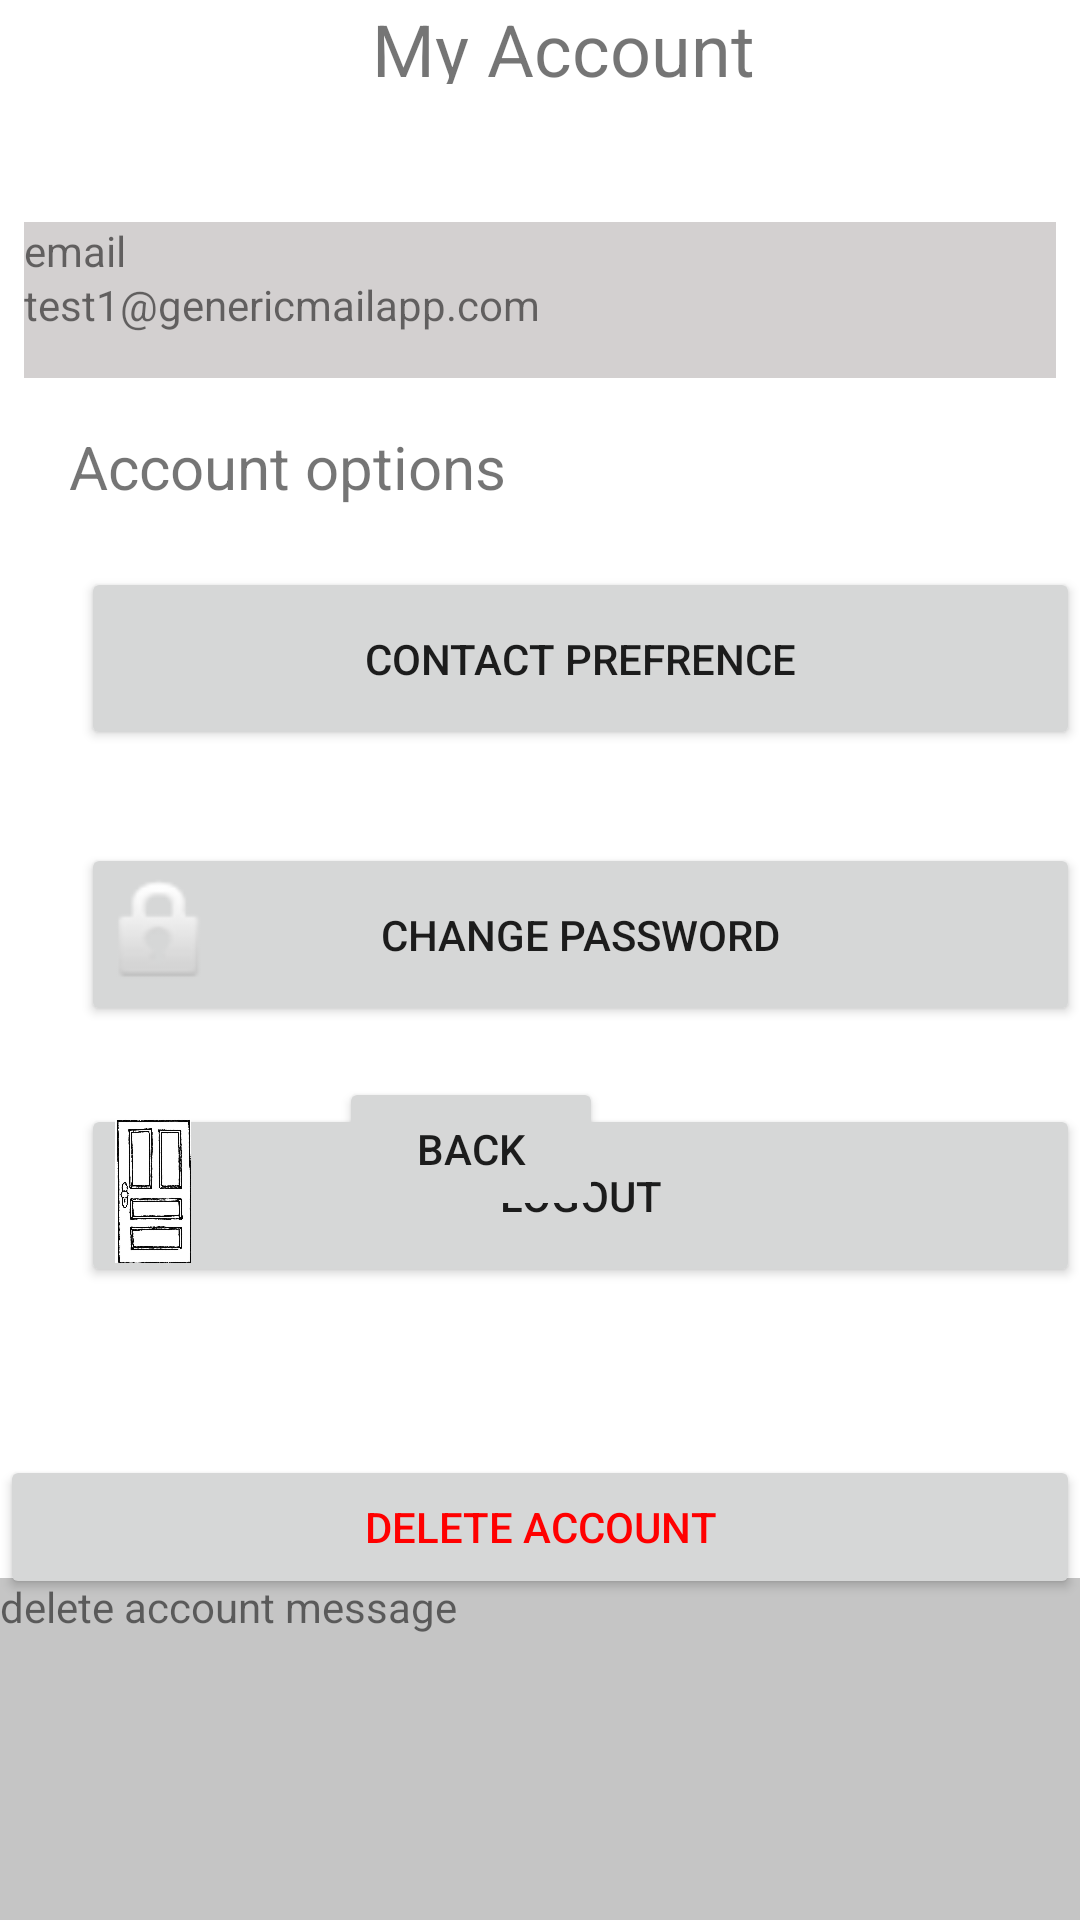

Icons on this 1080 × 1920 Android screen, each with the point to tap as [x,y]:
door: [153,1191]
